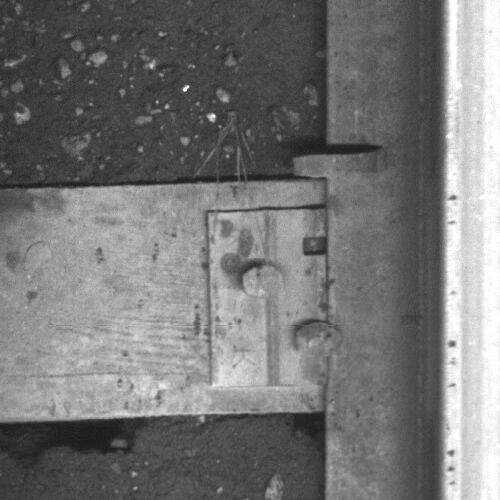crutch: (293, 147, 392, 179)
do: (206, 206, 342, 387)
hole_do: (294, 226, 337, 264)
rail: (442, 1, 500, 500)
tie_wood: (1, 186, 326, 415)
